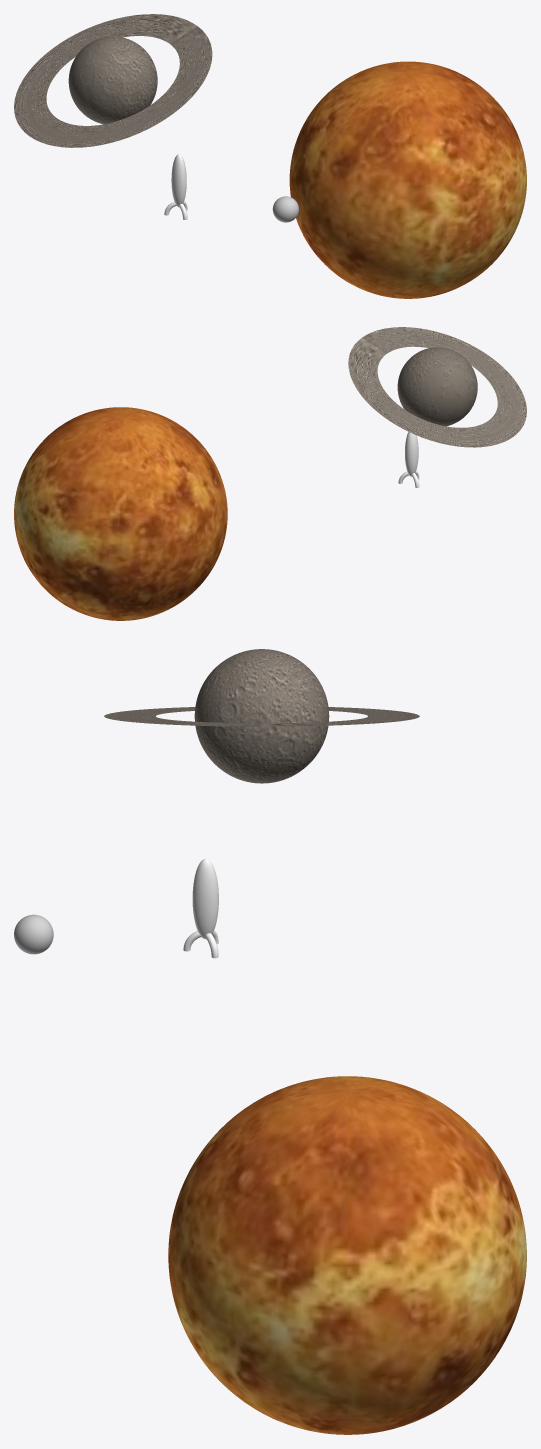
3 views of the same model, one above another, from view 1: azimuth 30°, elevation 25°; view 2: azimuth 150°, elevation 25°; view 3: azimuth 270°, elevation 25° (orthographic). The views are drawn at different scales.
Size of the model in its own units: 3.33 by 2.16 by 1.92.
4 materials, 2 textured.
